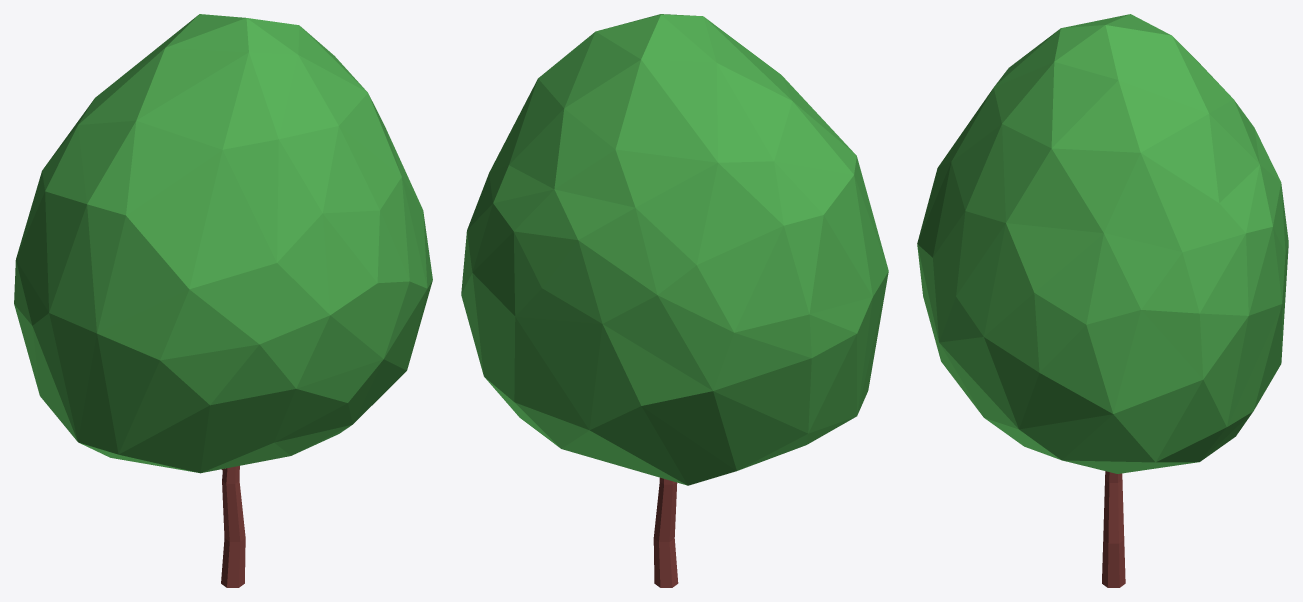
File: Maple_flat.glb
3 views of the same model, side by side, from view 1: azimuth 30°, elevation 25°; view 2: azimuth 150°, elevation 25°; view 3: azimuth 270°, elevation 25° (orthographic).
Visible parts, largest first — view 1: Maple green f; view 2: Maple green f; view 3: Maple green f.
Part boxes in pixels (x1=…): Maple green f: x1=14, y1=14, x2=432, y2=587; Maple green f: x1=461, y1=14, x2=888, y2=587; Maple green f: x1=917, y1=14, x2=1288, y2=587.
Bounding box in the file's own units: 8.74 × 12.41 × 7.42.
